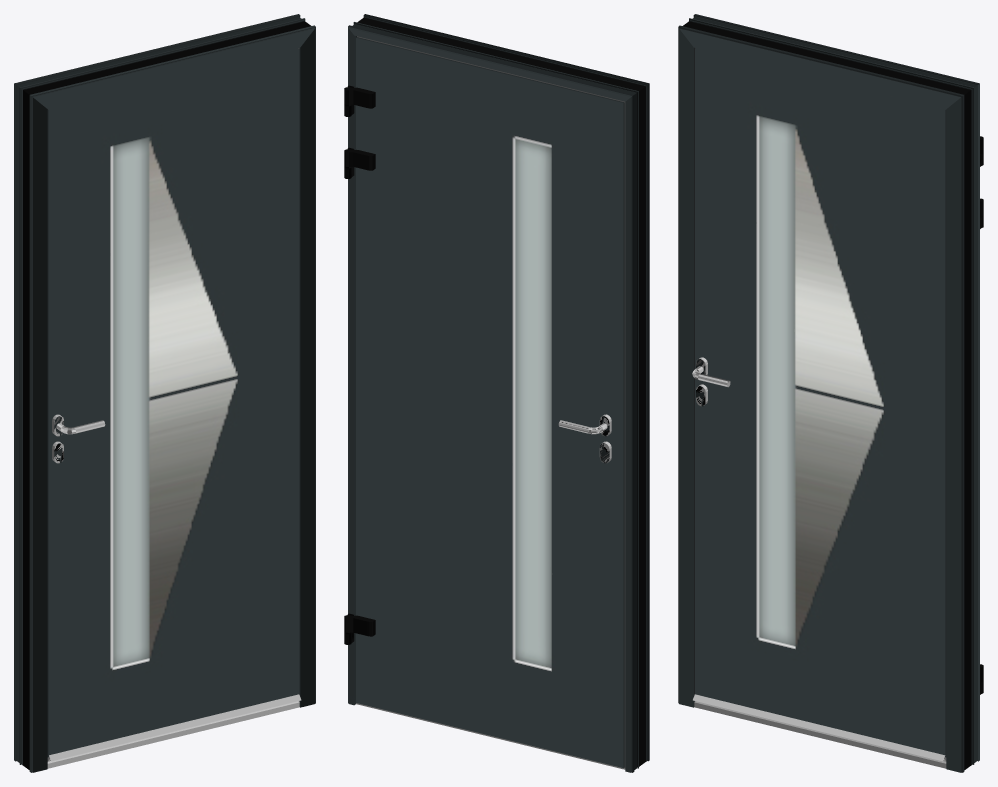
3 renders of one model, left to right at view 1: azimuth 30°, elevation 25°; view 2: azimuth 150°, elevation 25°; view 3: azimuth 330°, elevation 25°, orthographic.
Visible parts, largest first — view 1: ouvrant, 105; view 2: ouvrant, 105; view 3: ouvrant, 105.
Part boxes in pixels (x1=…): ouvrant: x1=47, y1=48, x2=301, y2=761; 105: x1=14, y1=14, x2=315, y2=772; ouvrant: x1=344, y1=36, x2=625, y2=768; 105: x1=344, y1=14, x2=649, y2=772; ouvrant: x1=693, y1=48, x2=983, y2=761; 105: x1=678, y1=14, x2=983, y2=772.
Size of the model in its own units: 96 by 218 by 24.64.
1 material, 1 textured.
